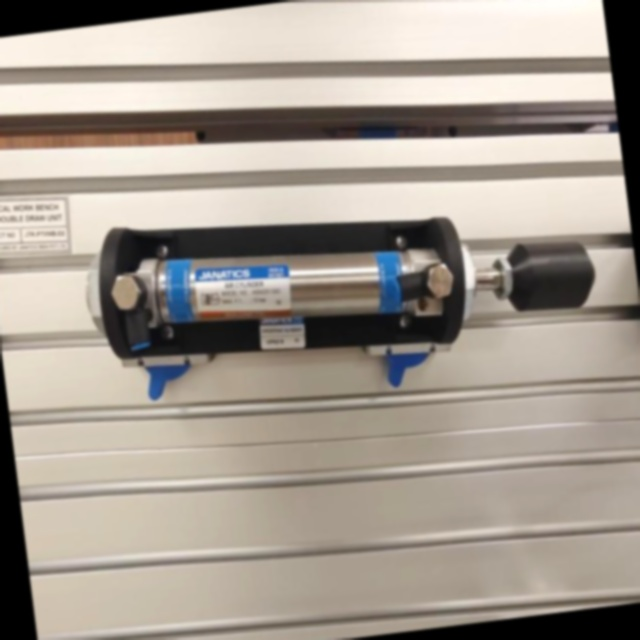double acting pneumatic cylinder: (67, 156, 620, 447)
